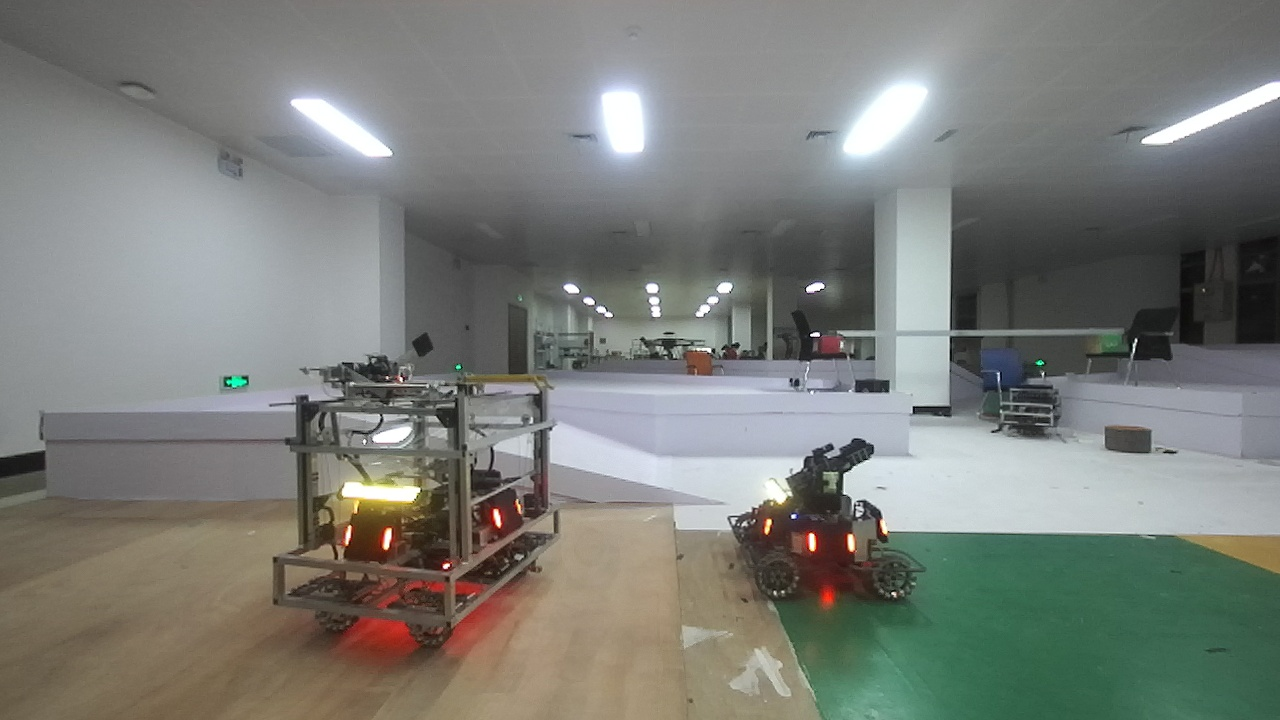car: (267, 358, 566, 657), (710, 416, 916, 622)
